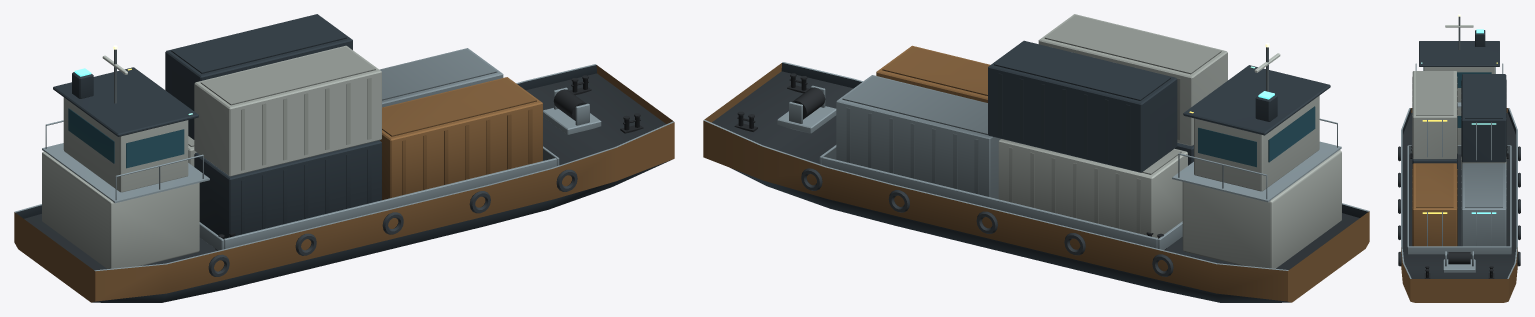
File: harbour-barge.lod0.glb
3 views of the same model, side by side, from view 1: azimuth 30°, elevation 25°; view 2: azimuth 150°, elevation 25°; view 3: azimuth 270°, elevation 25° (orthographic). The views are drawn at different scales.
Visible parts, largest first — view 1: structure; view 2: structure; view 3: structure.
Part boxes in pixels (x1,y1,x2,y2): structure: (14, 14, 674, 302); structure: (703, 14, 1369, 302); structure: (1398, 14, 1520, 302).
Bounding box in the file's own units: 22 × 8.29 × 6.51.
